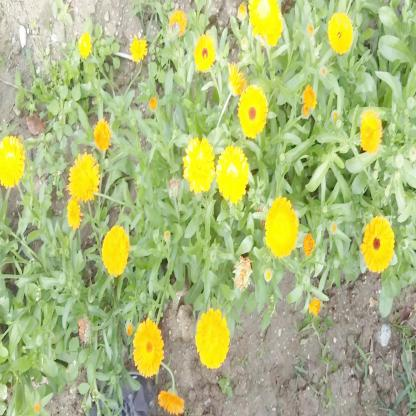marigold: (196, 311, 229, 368), (247, 0, 285, 49), (267, 198, 298, 257), (183, 133, 214, 191), (238, 82, 268, 138), (362, 217, 393, 271), (218, 145, 247, 202), (133, 320, 162, 376), (68, 152, 97, 201), (101, 226, 129, 276), (0, 132, 24, 184), (329, 14, 355, 53), (156, 383, 186, 416), (360, 108, 382, 151), (193, 32, 216, 73), (226, 57, 246, 97), (93, 114, 112, 154), (166, 6, 187, 40), (64, 196, 84, 229), (128, 35, 147, 64), (77, 30, 93, 59), (302, 81, 317, 110)
